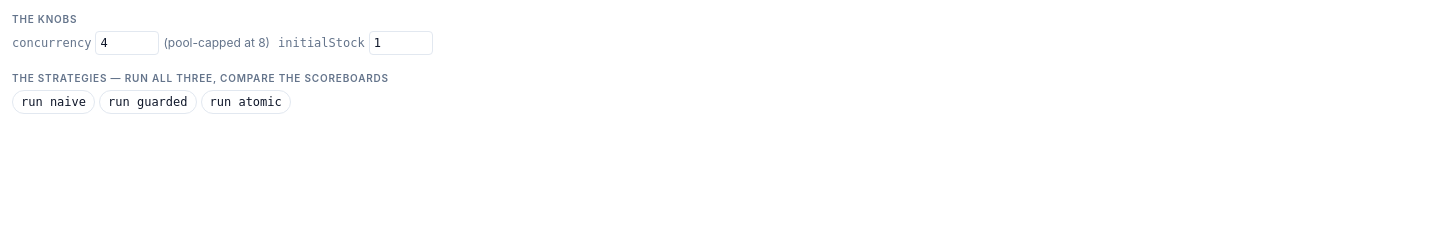
Test case: RaceDemo › shows the oversold badge when naive loses the race
Click the button with test id "race-run-naive" at point(54, 102), box x1=12 y1=90 x2=95 y2=114
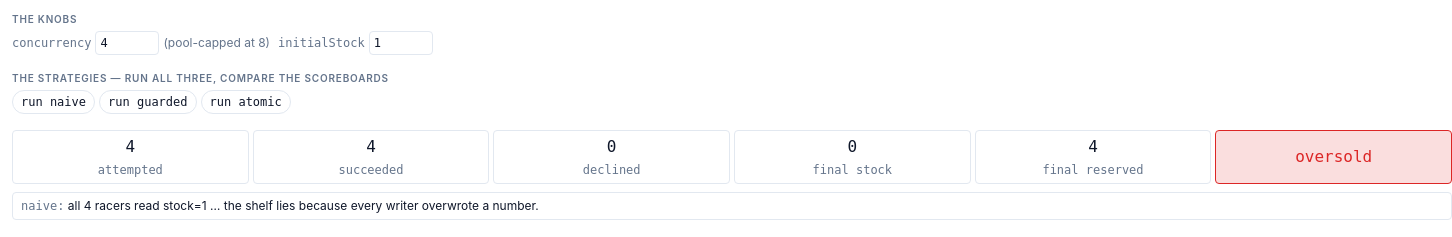
expect the text with test id "race-oversold" reads "oversold": met, box x1=1295 y1=147 x2=1372 y2=166
expect the text with test id "race-succeeded" reads "4": met, box x1=366 y1=137 x2=376 y2=156
expect the text with test id "race-final-reserved" reads "4": met, box x1=1088 y1=137 x2=1098 y2=156
